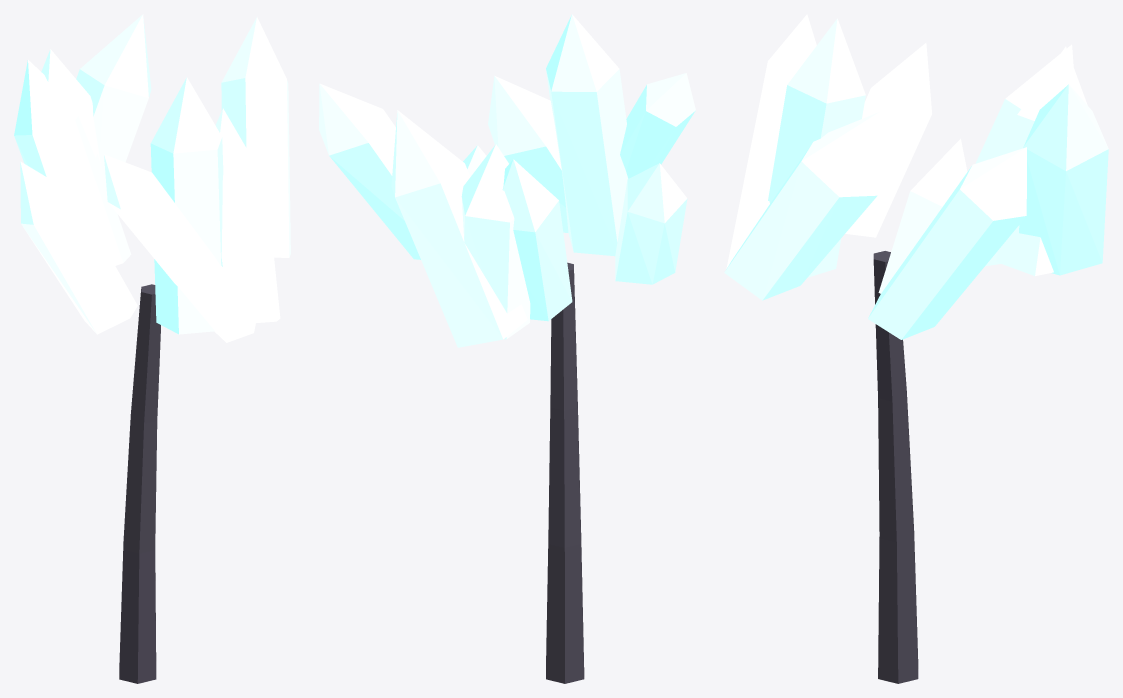
The model's file is crystal_leaf_near.glb.
3 views of the same model, side by side, from view 1: azimuth 30°, elevation 25°; view 2: azimuth 150°, elevation 25°; view 3: azimuth 270°, elevation 25° (orthographic). The views are drawn at different scales.
Parts seen in each view (by area): view 1: crystal_leaf_near; view 2: crystal_leaf_near; view 3: crystal_leaf_near.
Part boxes in pixels (left/top/right/bottom): crystal_leaf_near: left=14, top=14, right=290, bottom=683; crystal_leaf_near: left=319, top=14, right=695, bottom=683; crystal_leaf_near: left=724, top=14, right=1108, bottom=683.
Size of the model in its own units: 1.15 by 2.21 by 1.16.
